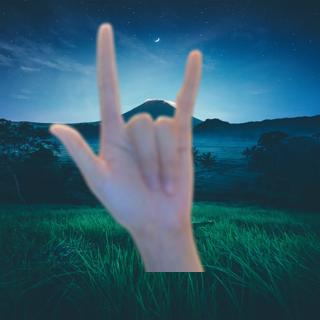ILY: (44, 18, 208, 238)
